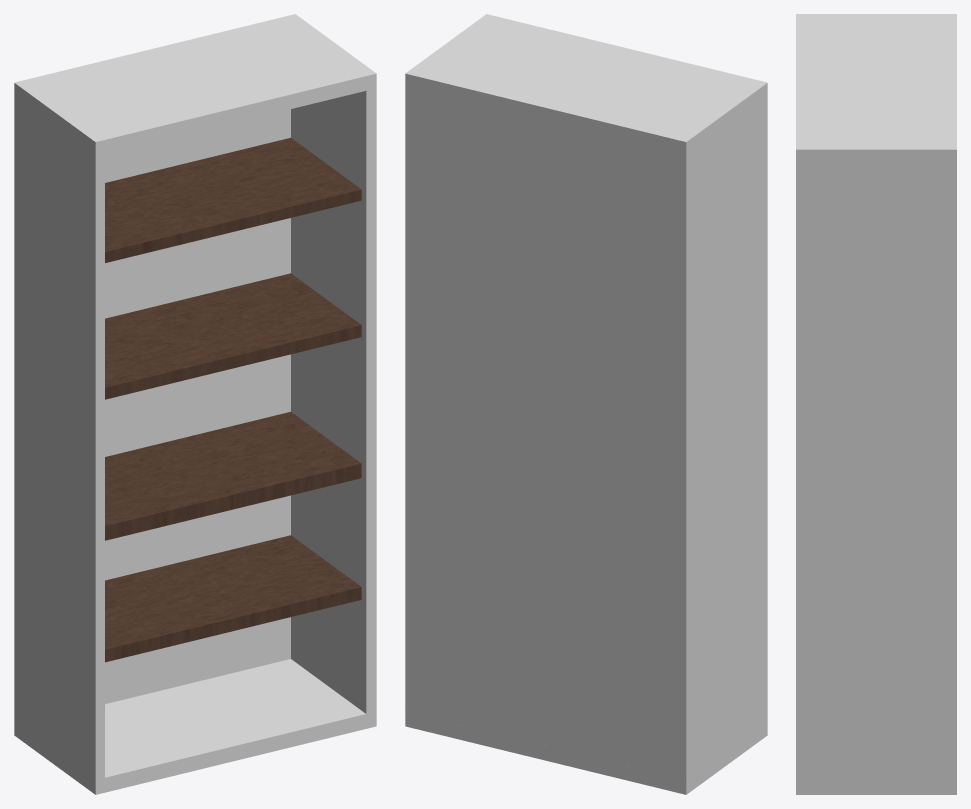
The model's file is Wardrobe2.fbx.
3 views of the same model, side by side, from view 1: azimuth 30°, elevation 25°; view 2: azimuth 150°, elevation 25°; view 3: azimuth 270°, elevation 25° (orthographic).
Visible parts, largest first — view 1: Wardrobe2; view 2: Wardrobe2; view 3: Wardrobe2.
Part boxes in pixels (x1,y1,x2,y2): Wardrobe2: (14, 14, 376, 794); Wardrobe2: (405, 14, 767, 794); Wardrobe2: (796, 14, 956, 794).
Bounding box in the file's own units: 1.29 × 2.87 × 0.6486.
